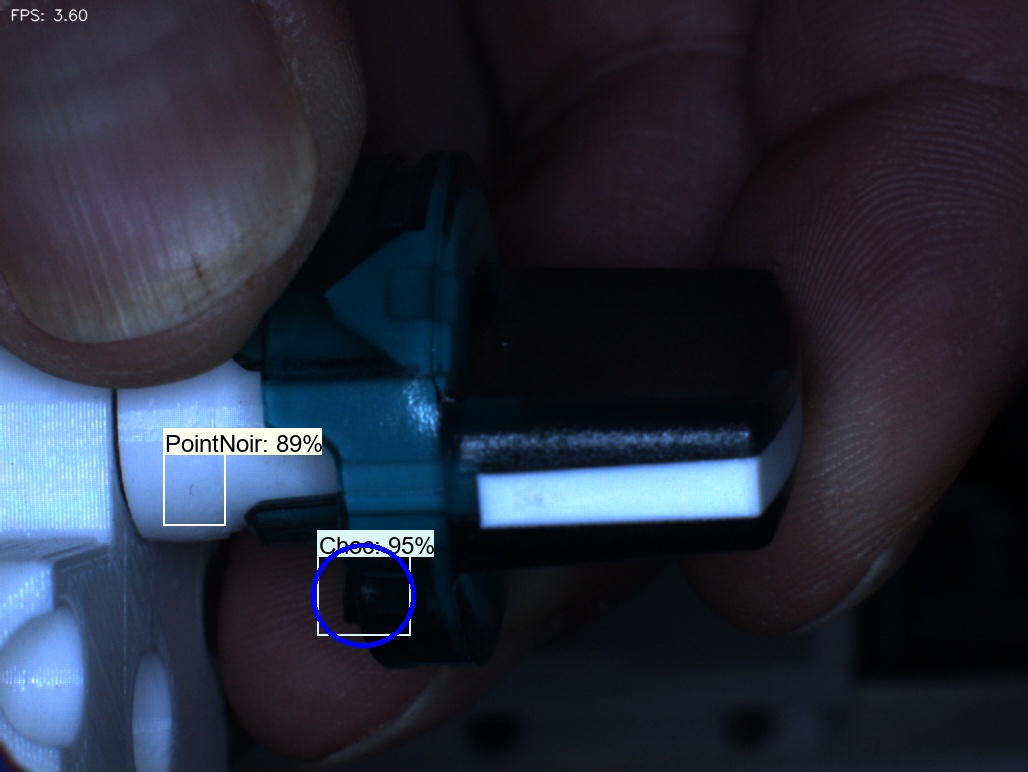DentOk: (309, 247, 378, 342)
